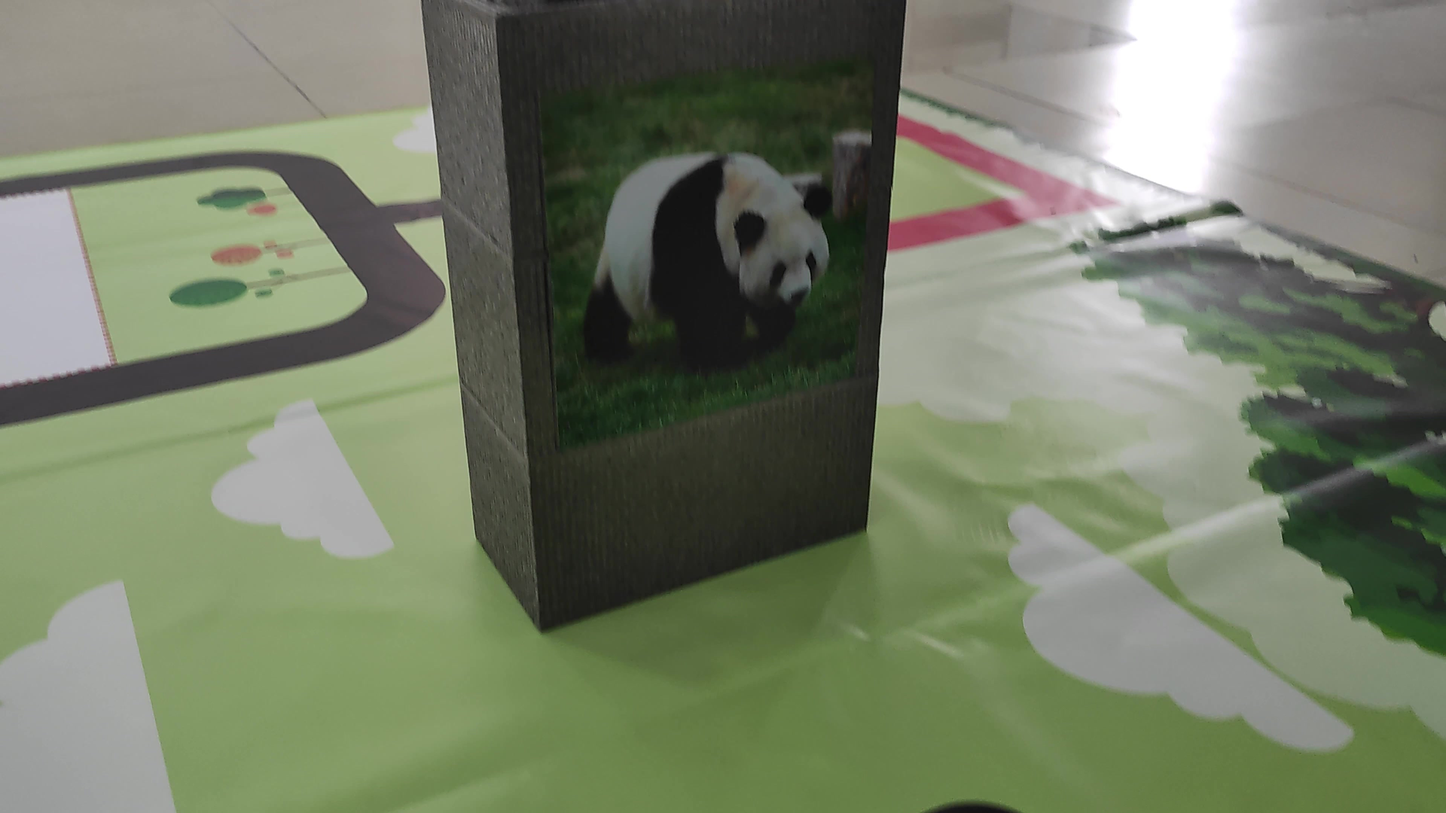panda: (558, 103, 865, 408)
